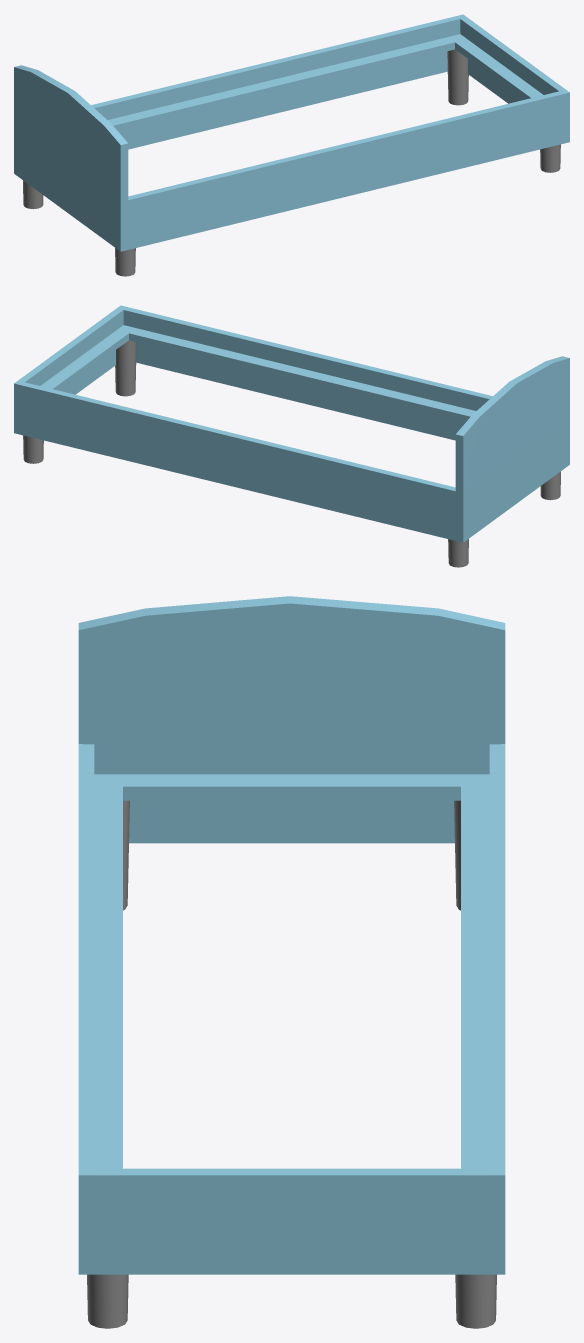
Rendered from FURNITURE_singleBed_04.FBX.
3 views of the same model, one above another, from view 1: azimuth 30°, elevation 25°; view 2: azimuth 150°, elevation 25°; view 3: azimuth 270°, elevation 25° (orthographic). The views are drawn at different scales.
Visible parts, largest first — view 1: FURNITURE_singleBed_04; view 2: FURNITURE_singleBed_04; view 3: FURNITURE_singleBed_04.
Boxes of the visible parts, box(x1,y1,x2,y2) form: FURNITURE_singleBed_04: box(14, 14, 569, 276); FURNITURE_singleBed_04: box(14, 305, 569, 567); FURNITURE_singleBed_04: box(78, 596, 505, 1328).
Size of the model in its own units: 255 by 80.82 by 105.
